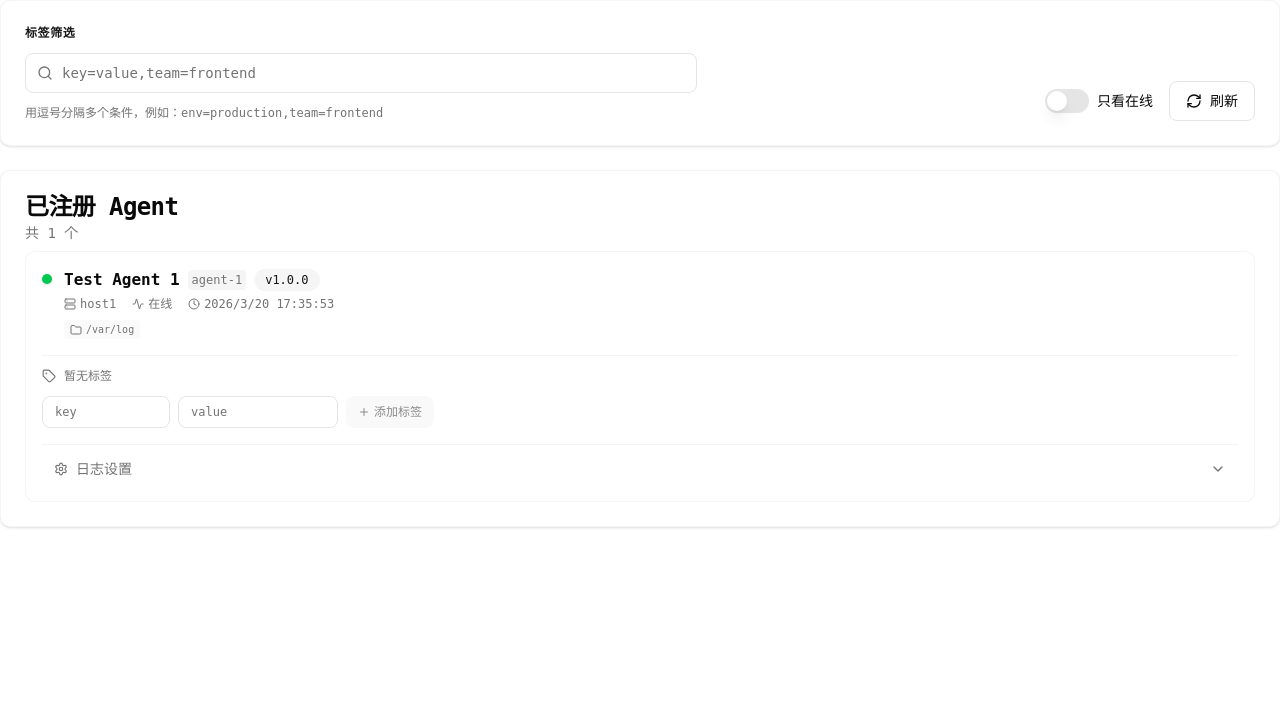
Test case: 日志设置 - 展开日志设置区域
This screenshot has width=1280, height=720.
Click the button "日志设置".
click(104, 469)  # box top-left (42, 453), bottom-right (1238, 485)
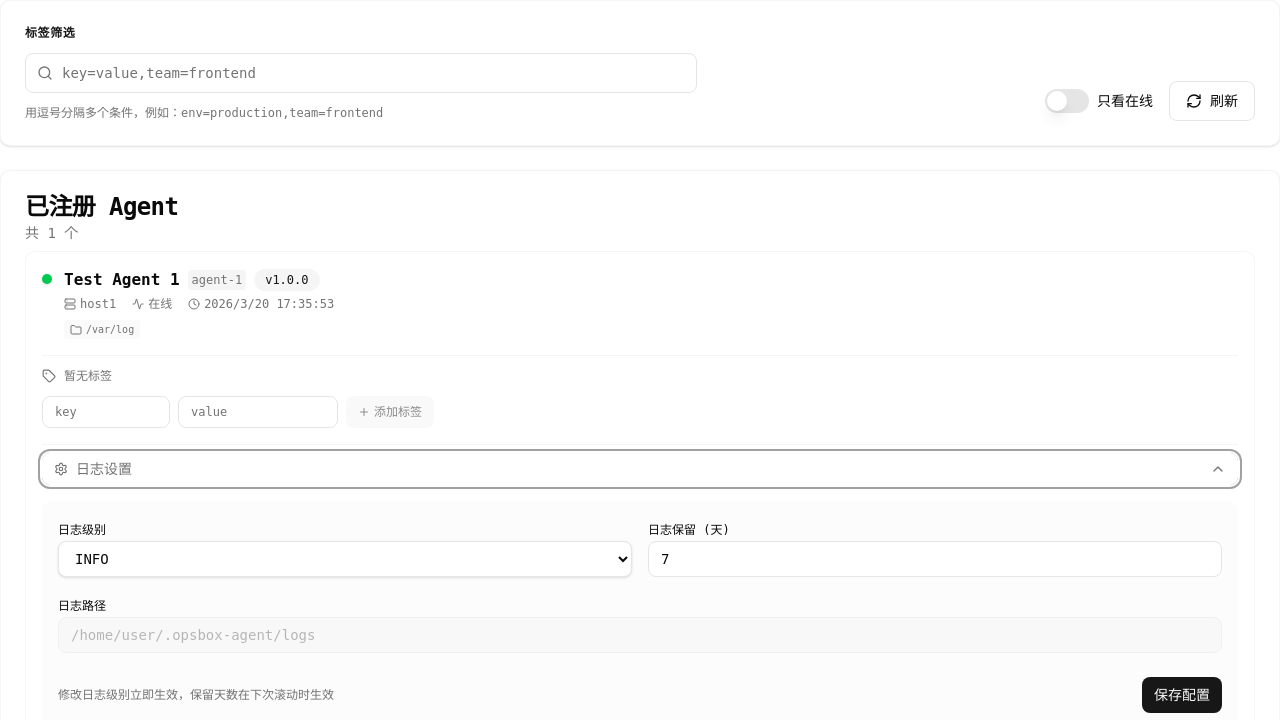
Result: the dropdown is shown at top-left (58, 541), bottom-right (632, 577)
